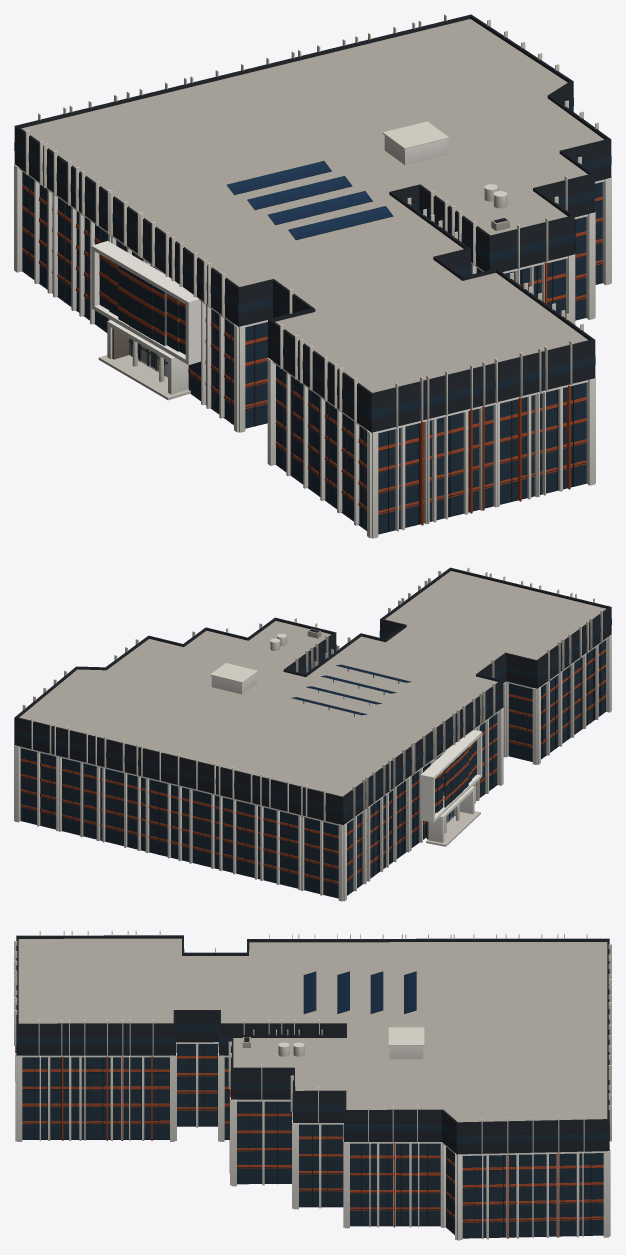
Rendered from rnd_block.glb.
3 renders of one model, top to bottom at view 1: azimuth 30°, elevation 25°; view 2: azimuth 150°, elevation 25°; view 3: azimuth 270°, elevation 25°, orthographic. The views are drawn at different scales.
Visible parts, largest first — view 1: LOD0_High_RoofSlabConcrete, LOD0_High_CurtainGlass, LOD0_High_StuccoWhite, LOD0_High_CharcoalPrecast, LOD0_High_DarkAnodizedSteel, LOD0_High_StuccoWarmTrim, LOD0_High_TerracottaMetallic, LOD0_High_SolarPV, LOD1_Medium_StuccoWhite, LOD1_Medium_StuccoWarmTrim, LOD1_Medium_CurtainGlass, LOD1_Medium_TerracottaMetallic; view 2: LOD0_High_RoofSlabConcrete, LOD0_High_CurtainGlass, LOD0_High_StuccoWhite, LOD0_High_CharcoalPrecast, LOD0_High_DarkAnodizedSteel, LOD0_High_StuccoWarmTrim, LOD0_High_TerracottaMetallic, LOD1_Medium_StuccoWhite, LOD1_Medium_StuccoWarmTrim, LOD0_High_SolarPV, LOD1_Medium_DarkAnodizedSteel, LOD1_Medium_CurtainGlass; view 3: LOD0_High_RoofSlabConcrete, LOD0_High_CurtainGlass, LOD0_High_CharcoalPrecast, LOD0_High_StuccoWhite, LOD0_High_DarkAnodizedSteel, LOD0_High_TerracottaMetallic, LOD0_High_StuccoWarmTrim, LOD0_High_SolarPV, LOD1_Medium_StuccoWhite, LOD1_Medium_StuccoWarmTrim.
Boxes of the visible parts, left/top/right/bottom form: LOD0_High_RoofSlabConcrete: left=21, top=19, right=604, bottom=392; LOD0_High_CurtainGlass: left=14, top=98, right=611, bottom=533; LOD0_High_StuccoWhite: left=14, top=135, right=611, bottom=538; LOD0_High_CharcoalPrecast: left=14, top=16, right=611, bottom=432; LOD0_High_DarkAnodizedSteel: left=15, top=14, right=610, bottom=534; LOD0_High_StuccoWarmTrim: left=25, top=14, right=598, bottom=427; LOD0_High_TerracottaMetallic: left=22, top=184, right=602, bottom=525; LOD0_High_SolarPV: left=227, top=161, right=393, bottom=240; LOD1_Medium_StuccoWhite: left=47, top=190, right=539, bottom=524; LOD1_Medium_StuccoWarmTrim: left=43, top=22, right=565, bottom=420; LOD1_Medium_CurtainGlass: left=99, top=258, right=185, bottom=354; LOD1_Medium_TerracottaMetallic: left=99, top=254, right=484, bottom=510; LOD0_High_RoofSlabConcrete: left=19, top=571, right=606, bottom=796; LOD0_High_CurtainGlass: left=14, top=619, right=611, bottom=897; LOD0_High_StuccoWhite: left=14, top=634, right=611, bottom=901; LOD0_High_CharcoalPrecast: left=14, top=569, right=611, bottom=825; LOD0_High_DarkAnodizedSteel: left=15, top=567, right=610, bottom=898; LOD0_High_StuccoWarmTrim: left=22, top=567, right=602, bottom=846; LOD0_High_TerracottaMetallic: left=20, top=649, right=605, bottom=884; LOD1_Medium_StuccoWhite: left=56, top=726, right=479, bottom=890; LOD1_Medium_StuccoWarmTrim: left=54, top=573, right=588, bottom=815; LOD0_High_SolarPV: left=291, top=664, right=411, bottom=715; LOD1_Medium_DarkAnodizedSteel: left=377, top=648, right=595, bottom=872; LOD1_Medium_CurtainGlass: left=435, top=741, right=476, bottom=813; LOD0_High_RoofSlabConcrete: left=18, top=938, right=607, bottom=1122; LOD0_High_CurtainGlass: left=16, top=1024, right=609, bottom=1237; LOD0_High_CharcoalPrecast: left=16, top=936, right=609, bottom=1154; LOD0_High_StuccoWhite: left=15, top=1042, right=610, bottom=1240; LOD0_High_DarkAnodizedSteel: left=16, top=935, right=609, bottom=1238; LOD0_High_TerracottaMetallic: left=15, top=1046, right=603, bottom=1238; LOD0_High_StuccoWarmTrim: left=14, top=930, right=611, bottom=1154; LOD0_High_SolarPV: left=303, top=971, right=416, bottom=1013; LOD1_Medium_StuccoWhite: left=69, top=1056, right=559, bottom=1238; LOD1_Medium_StuccoWarmTrim: left=14, top=930, right=611, bottom=1095.
Bounding box in the file's own units: 86.37 × 26.47 × 111.
